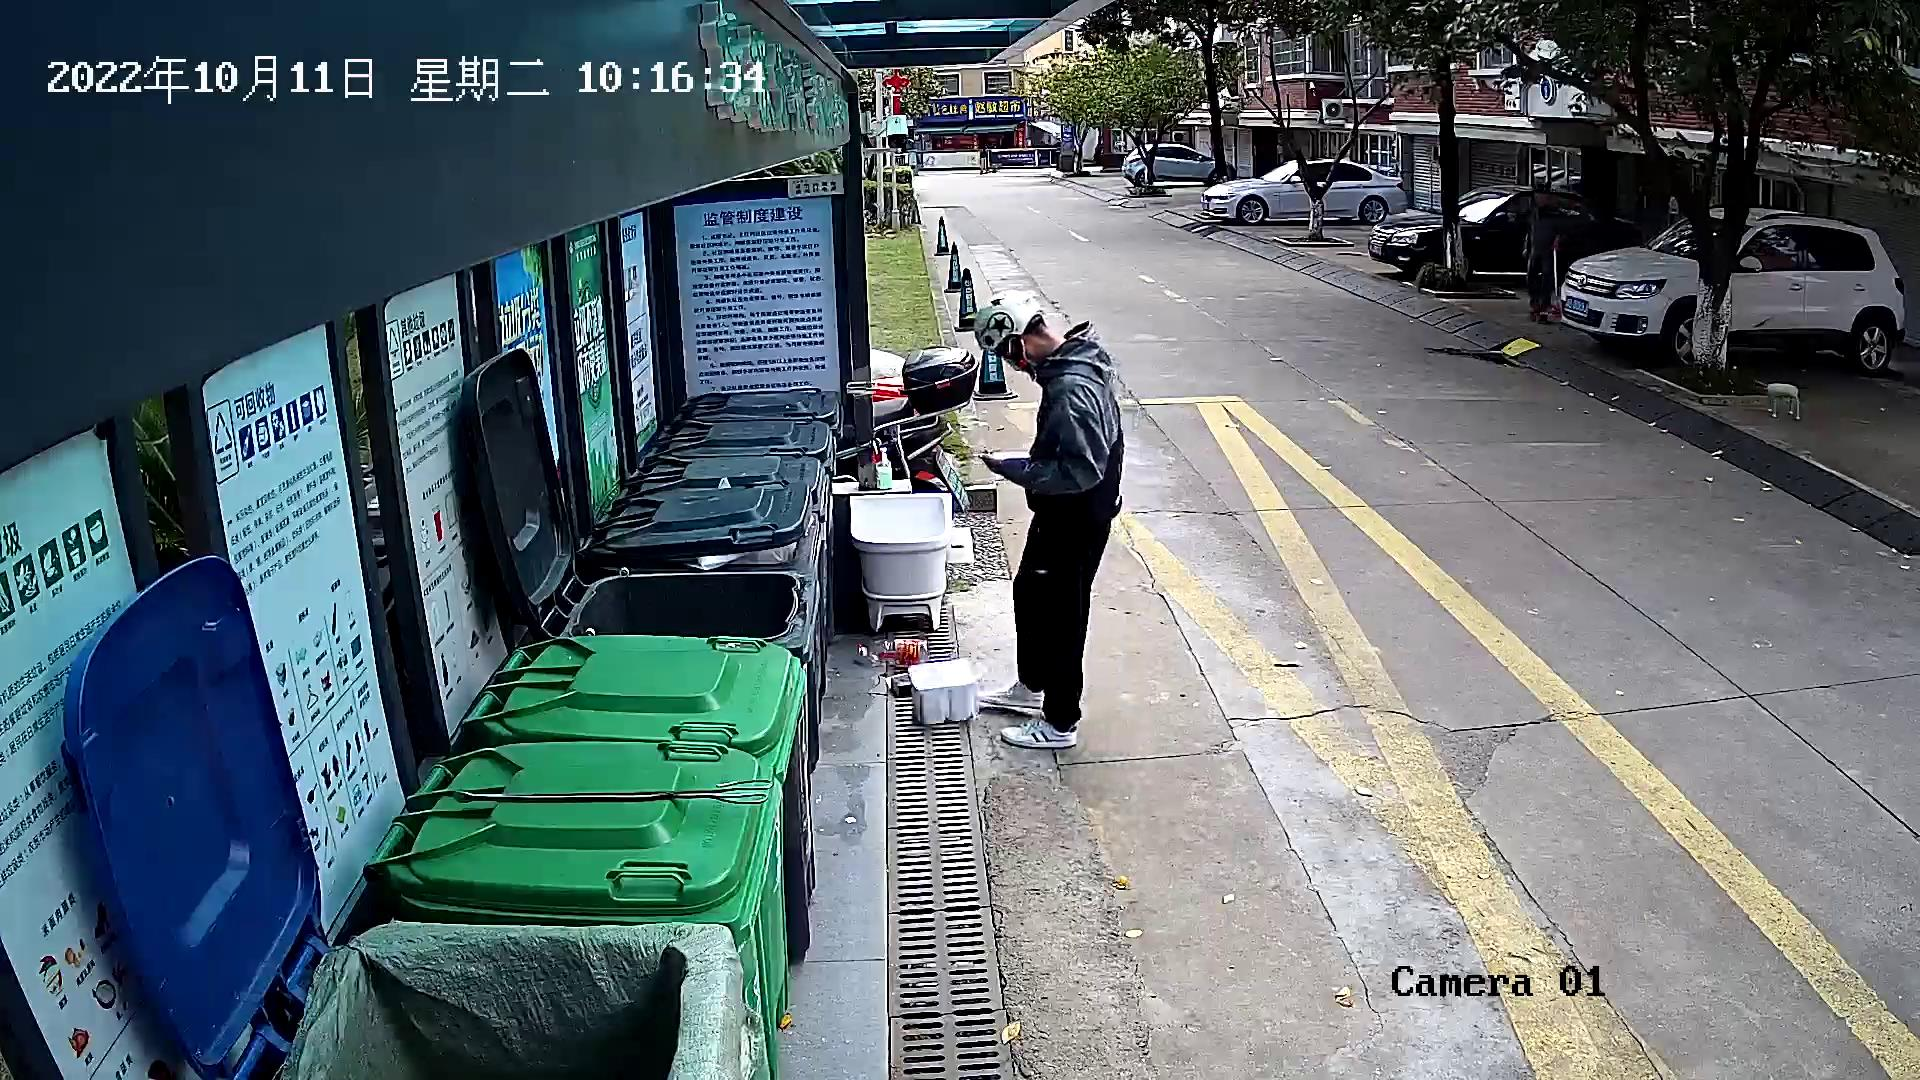paomozhipin: (902, 654, 987, 731)
person: (968, 284, 1133, 763)
suliaozhipin: (849, 629, 935, 667)
